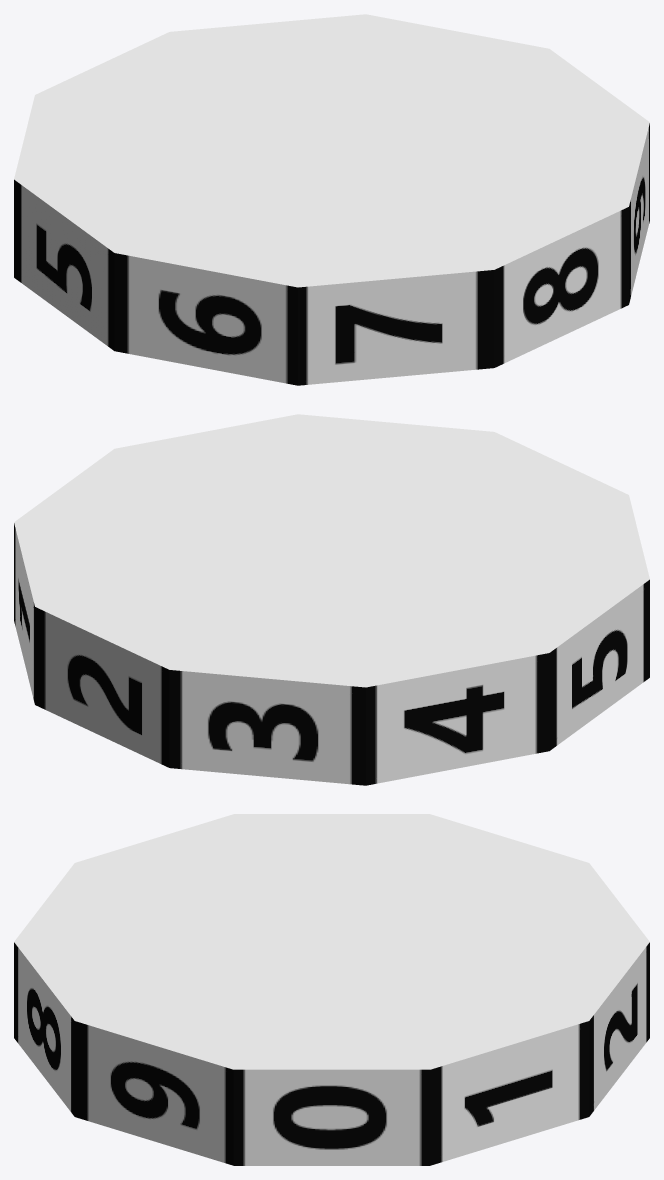
The model's file is CodeWheel.fbx.
3 views of the same model, one above another, from view 1: azimuth 30°, elevation 25°; view 2: azimuth 150°, elevation 25°; view 3: azimuth 270°, elevation 25° (orthographic). The views are drawn at different scales.
Parts seen in each view (by area): view 1: Cylinder001; view 2: Cylinder001; view 3: Cylinder001.
Part boxes in pixels (box(x1,y1,x2,y2)): Cylinder001: box(14, 14, 649, 385); Cylinder001: box(14, 414, 649, 785); Cylinder001: box(14, 814, 649, 1165).
Size of the model in its own units: 28.53 by 5 by 30.
Materials: 1 (1 with a texture image).
